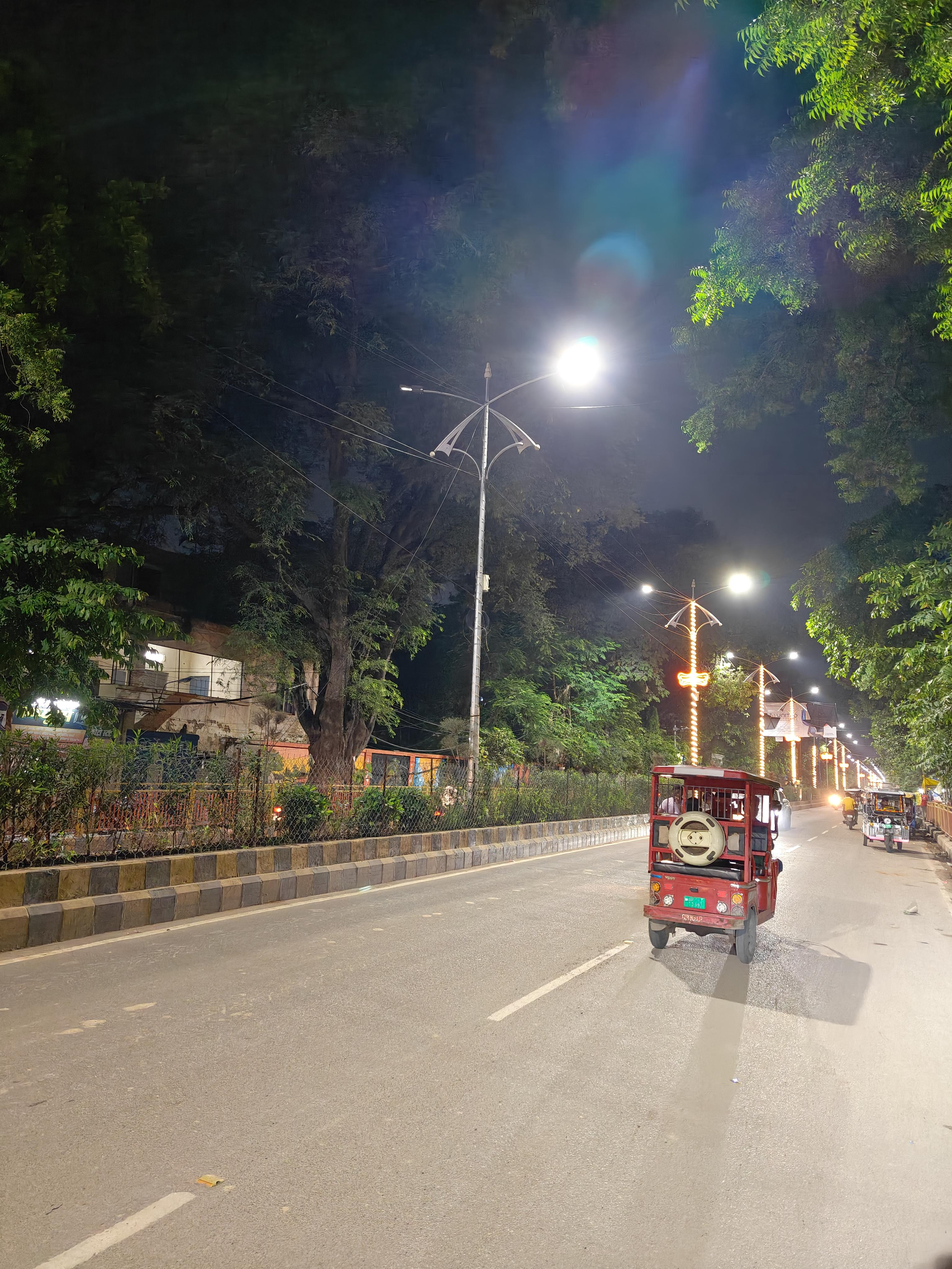streetlight: (398, 383, 482, 408)
